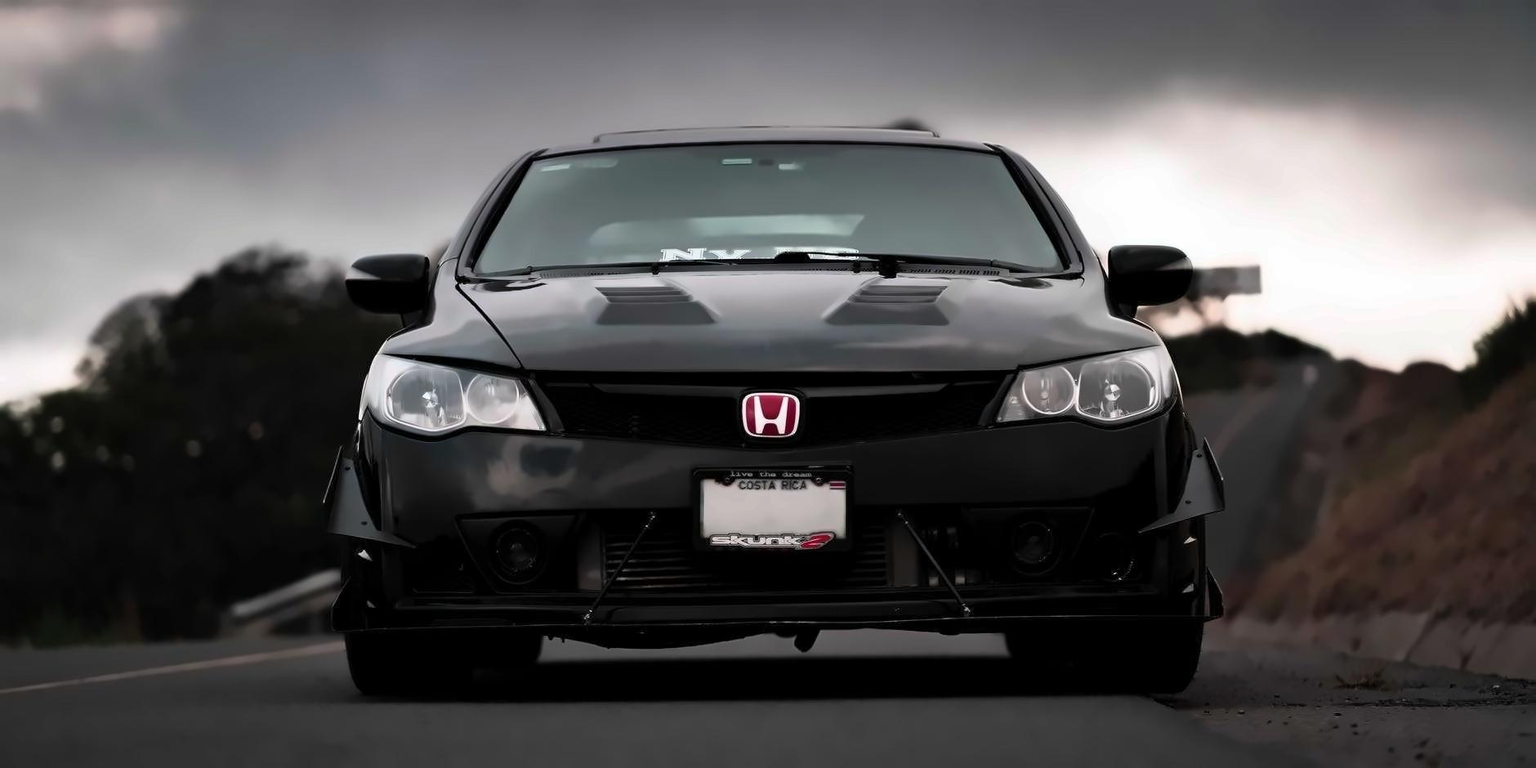Car hood: (403, 271, 1159, 376)
Front bumper: (324, 402, 1230, 644)
Headlight - -L-: (981, 347, 1188, 428)
Headlight - -R-: (353, 345, 549, 442)
Side mirror - -L-: (1104, 244, 1200, 322)
Side mirror - -R-: (341, 251, 443, 329)
